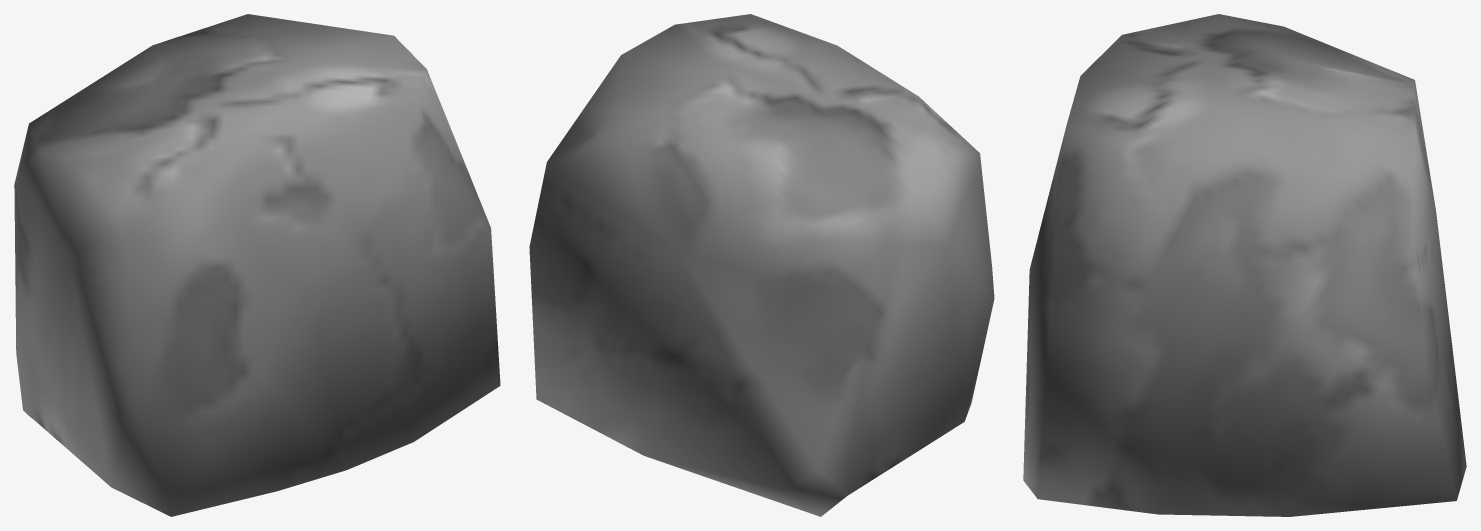
File: Rock_3.fbx
3 views of the same model, side by side, from view 1: azimuth 30°, elevation 25°; view 2: azimuth 150°, elevation 25°; view 3: azimuth 270°, elevation 25° (orthographic). The views are drawn at different scales.
Visible parts, largest first — view 1: Rock_3; view 2: Rock_3; view 3: Rock_3.
Boxes of the visible parts, x1,y1,x2,y2 form: Rock_3: [14, 14, 500, 516]; Rock_3: [529, 14, 994, 516]; Rock_3: [1023, 14, 1466, 516].
Bounding box in the file's own units: 36.02 × 33.34 × 31.51.
